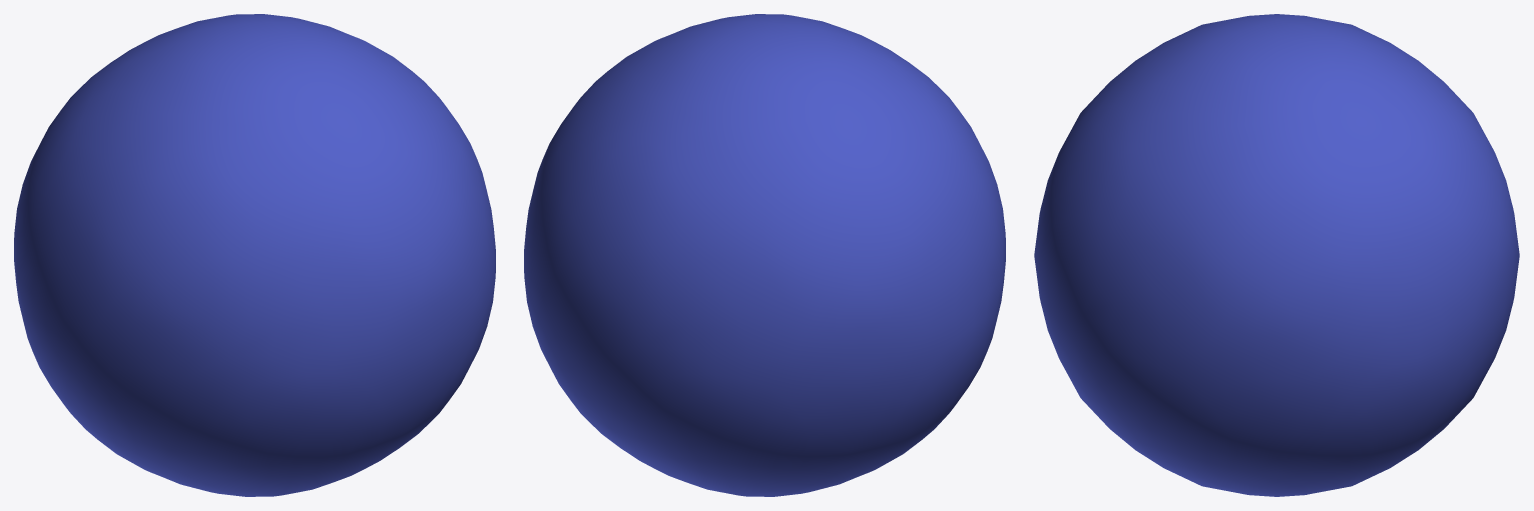
Rendered from ball.FBX.
The picture shows the model from 3 angles, left to right: view 1: azimuth 30°, elevation 25°; view 2: azimuth 150°, elevation 25°; view 3: azimuth 270°, elevation 25°; orthographic projection.
Parts seen in each view (by area): view 1: ball; view 2: ball; view 3: ball.
Part boxes in pixels (left/top/right/bottom): ball: left=14, top=14, right=495, bottom=496; ball: left=524, top=14, right=1005, bottom=496; ball: left=1034, top=14, right=1519, bottom=496.
Size of the model in its own units: 0.9275 by 0.9365 by 0.9344.
